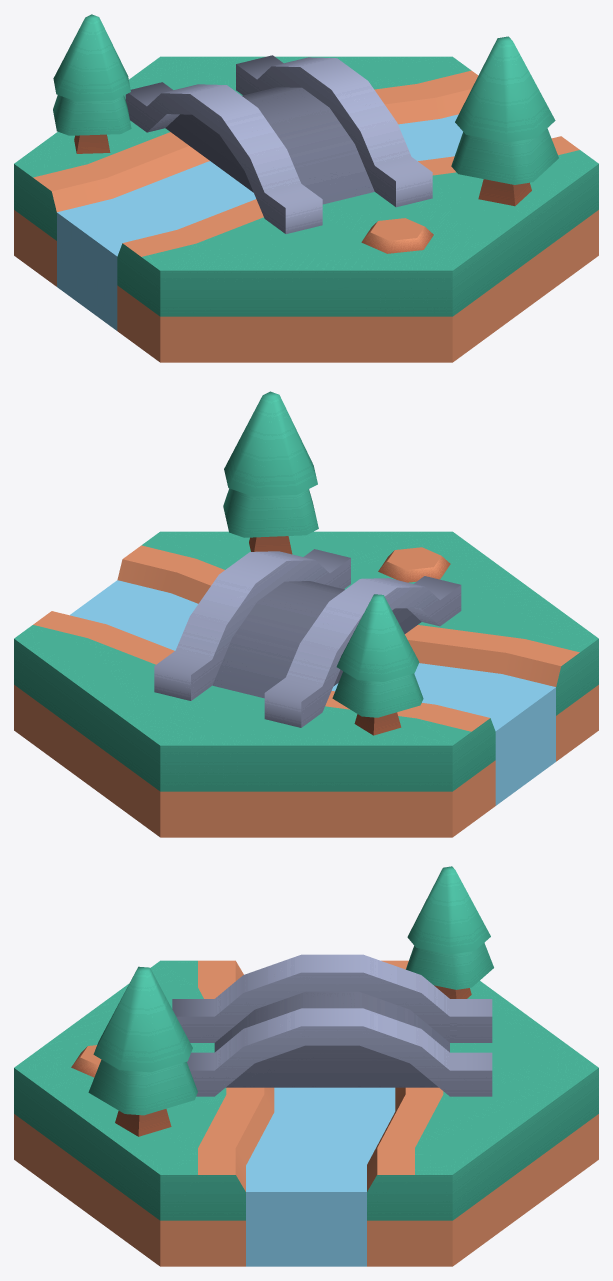
Rendered from bridge.glb.
The picture shows the model from 3 angles, top to bottom: view 1: azimuth 30°, elevation 25°; view 2: azimuth 150°, elevation 25°; view 3: azimuth 270°, elevation 25°; orthographic projection.
Parts seen in each view (by area): view 1: bridge; view 2: bridge; view 3: bridge.
Part boxes in pixels (x1,y1,x2,y2): bridge: (14,14,598,362); bridge: (14,391,598,837); bridge: (14,866,598,1266).
Bounding box in the file's own units: 1 × 0.5382 × 1.15.
Materials: 1 (1 with a texture image).
